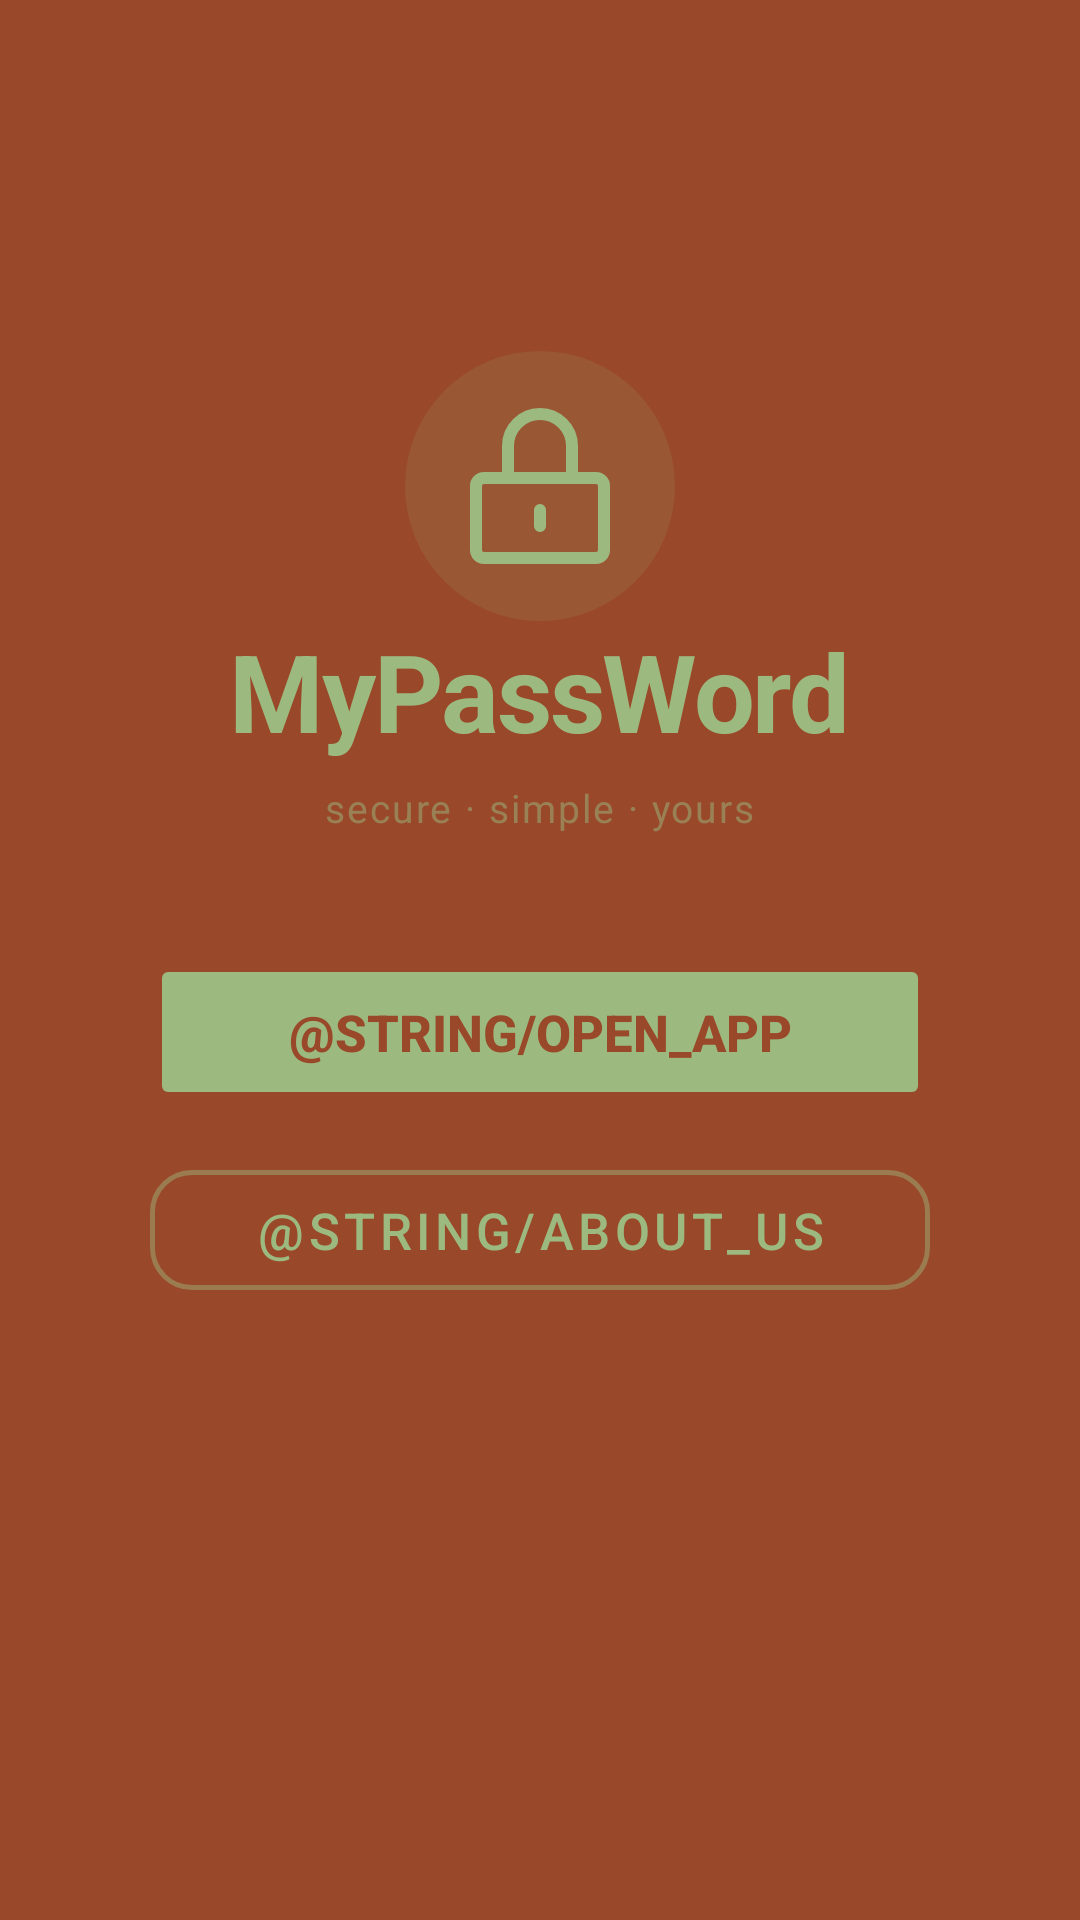

Where to tap for icons on this 1080*1920 app screen, as (x,y):
lock: (540,486)
